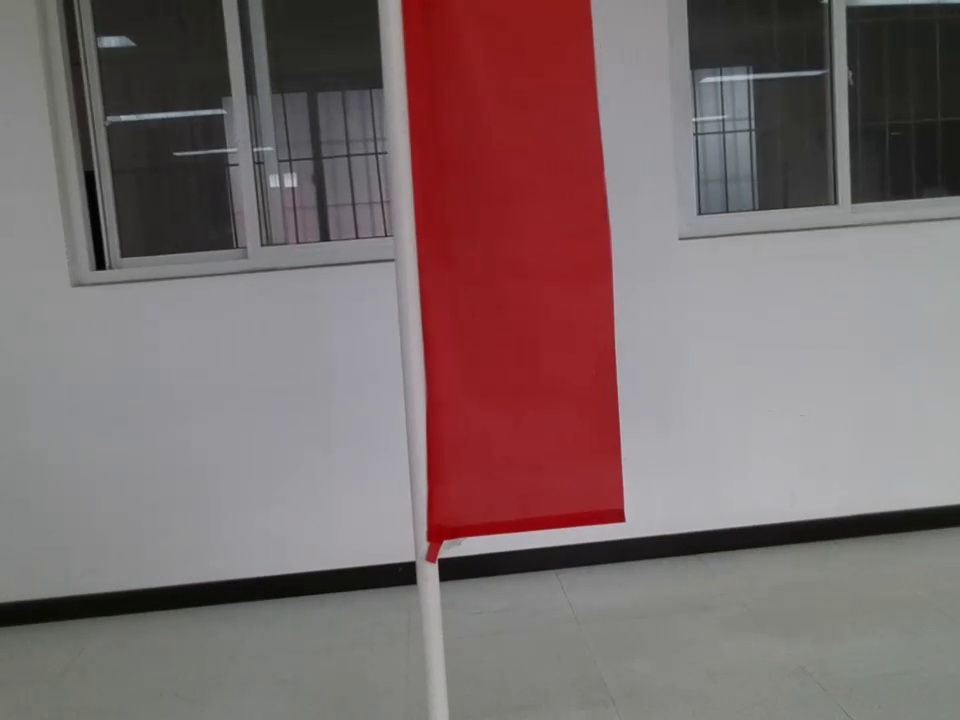qi: (375, 1, 632, 569)
